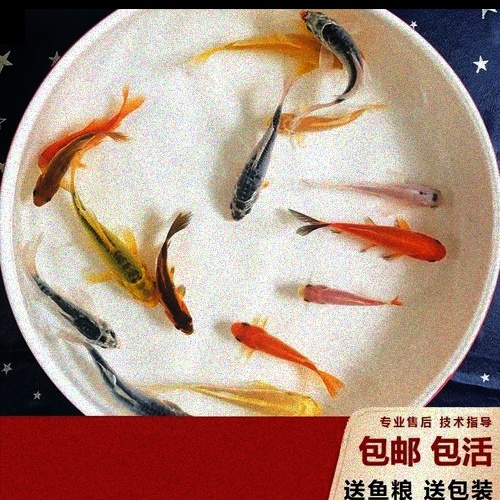fry: (79, 203, 158, 316), (46, 85, 154, 164), (316, 210, 455, 271), (31, 268, 119, 353), (231, 315, 328, 390), (298, 11, 372, 98), (207, 29, 327, 80), (158, 216, 206, 341), (334, 162, 458, 210), (96, 363, 195, 420), (286, 276, 412, 317), (209, 376, 327, 418), (226, 124, 272, 224), (267, 107, 381, 144), (34, 164, 70, 218)
